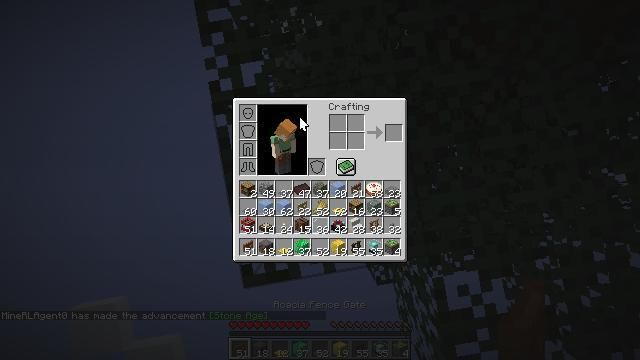cursor: (299, 116, 309, 132)
